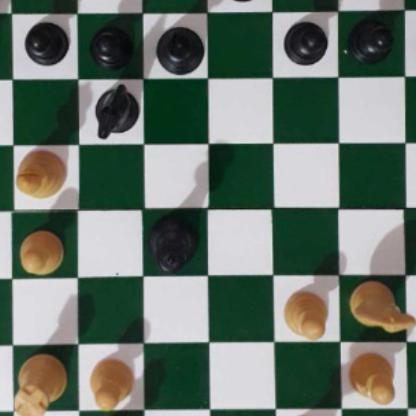black-bishop: (152, 23, 205, 75)
black-king: (213, 0, 271, 3)
black-knight: (87, 81, 140, 140)
black-pawn: (346, 16, 394, 61), (282, 15, 327, 63), (23, 19, 67, 66), (89, 22, 133, 68)
black-queen: (144, 212, 198, 272)
black-rook: (0, 0, 4, 3)
white-bishop: (14, 148, 66, 198)
white-king: (279, 415, 339, 416)
white-knight: (348, 278, 416, 333)
white-pawn: (346, 349, 398, 407), (87, 356, 134, 411), (282, 287, 327, 338), (18, 229, 64, 276)
white-rook: (11, 353, 67, 416)
